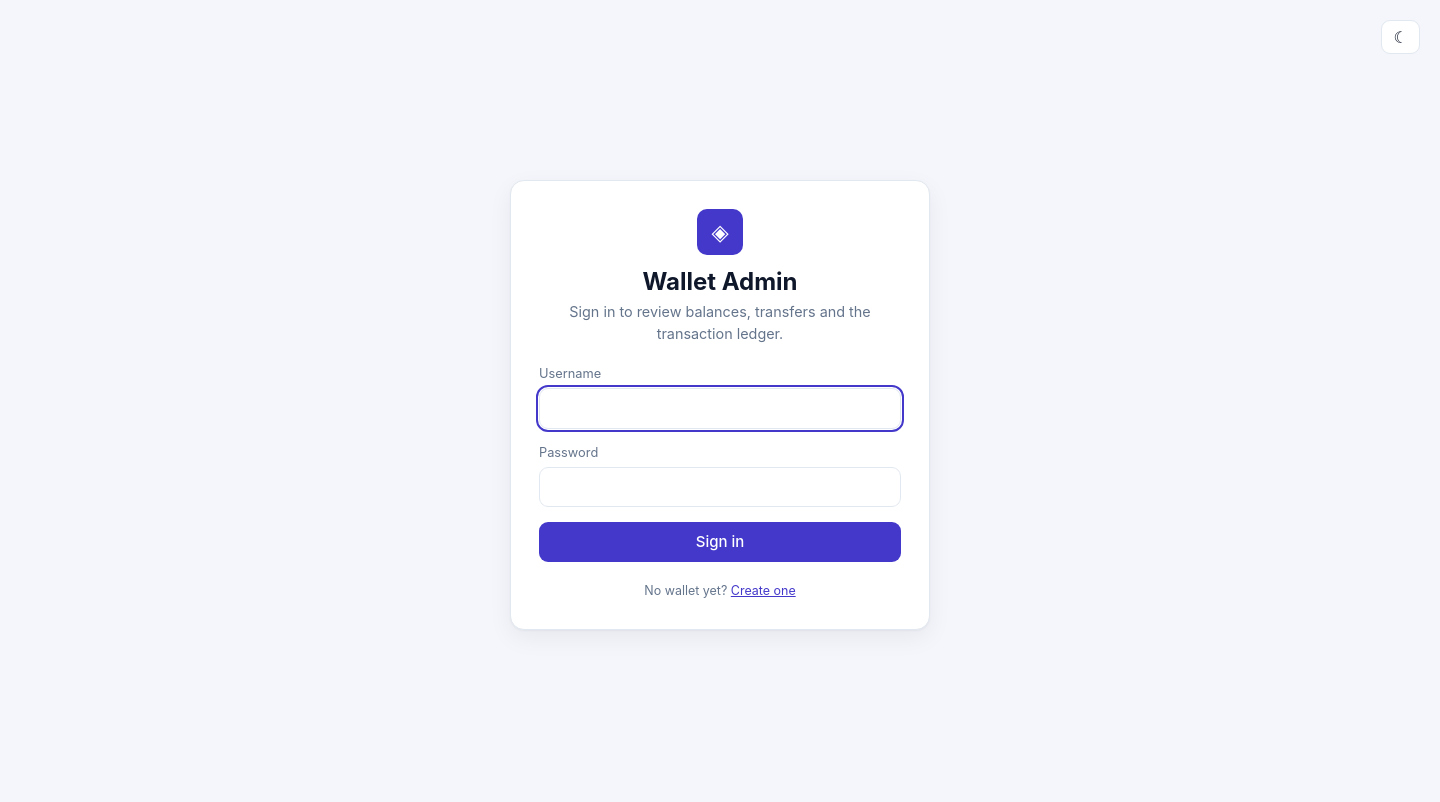
Test: login › sends the credentials, stores the session and lands on the dashboard
Step 1. Type "admin" into the field labelled "Username" → (720, 408), box [539,388,901,429]
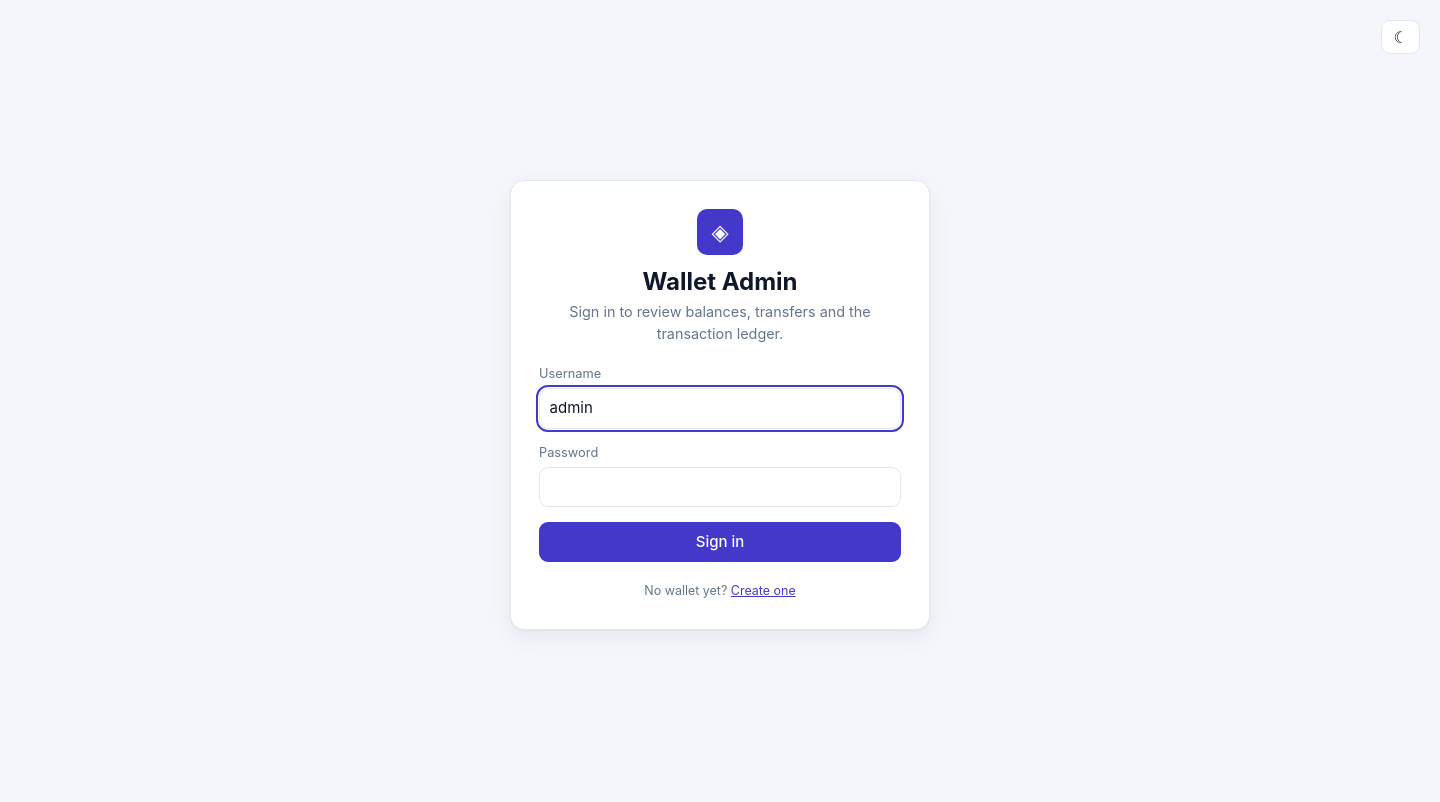
Step 2. Type "admin12345" into the password field labelled "Password" → (720, 487), box [539,467,901,508]
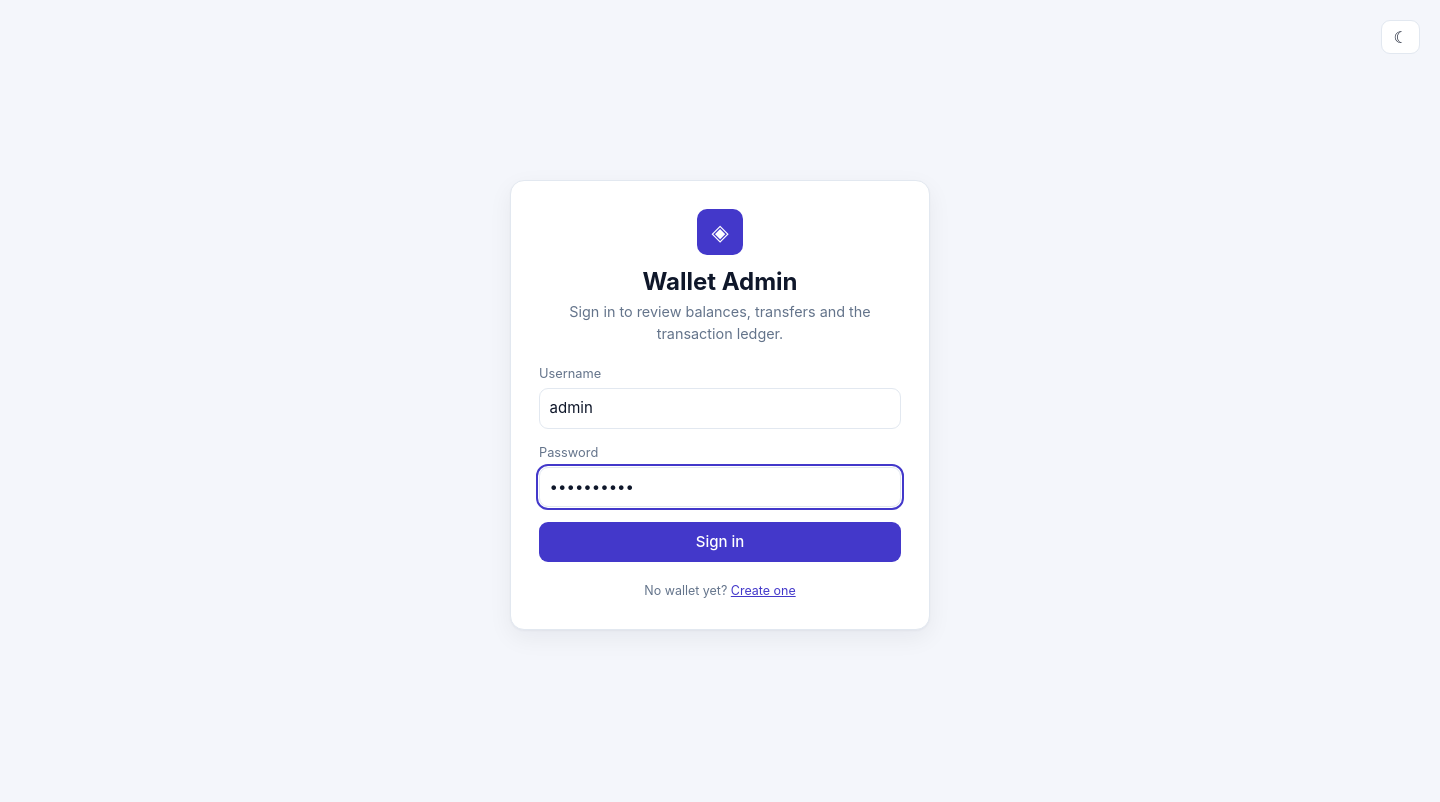
Step 3. Click the button "Sign in" → (720, 542), box [539,522,901,562]
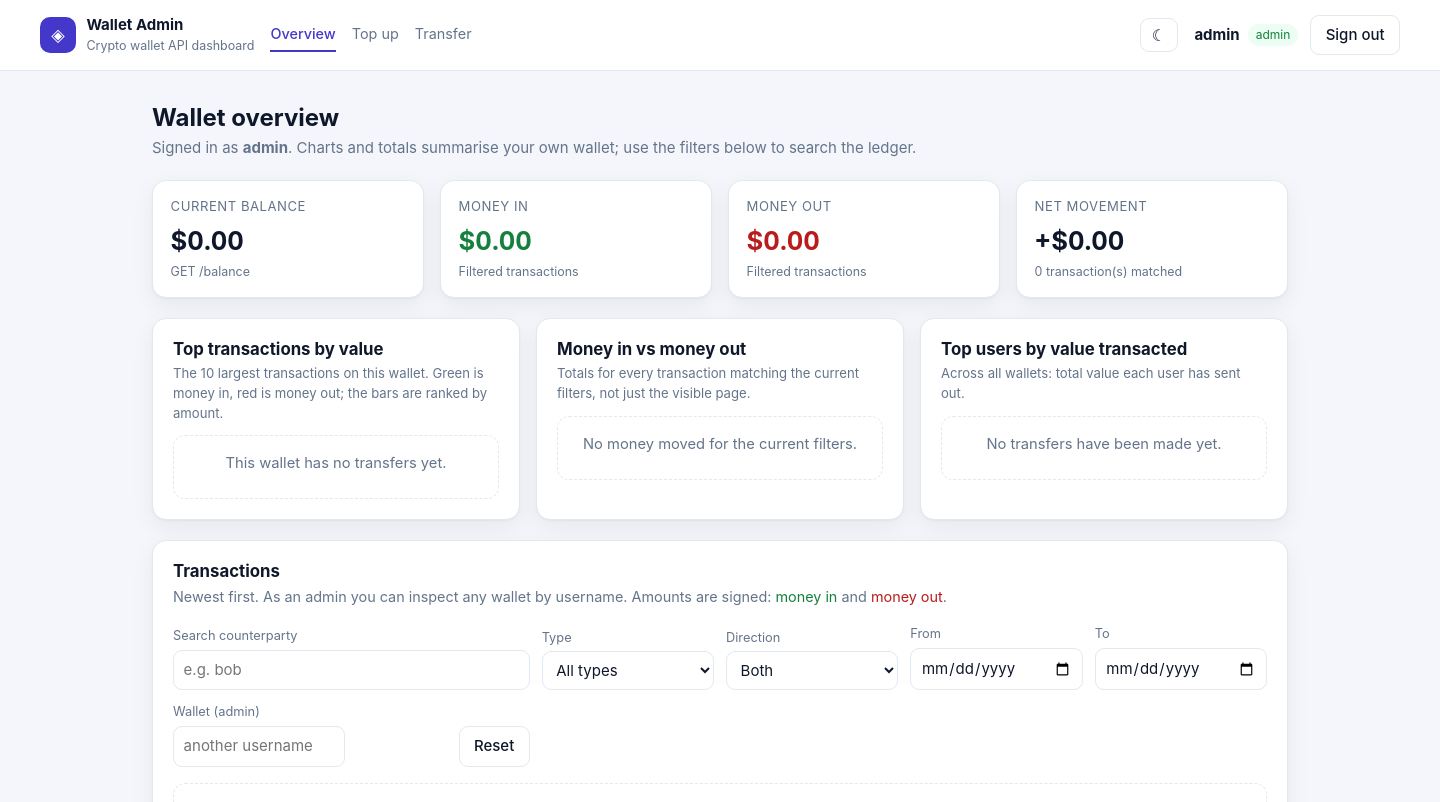
Expected: the heading "Wallet overview" is shown, [152,103,339,132]
